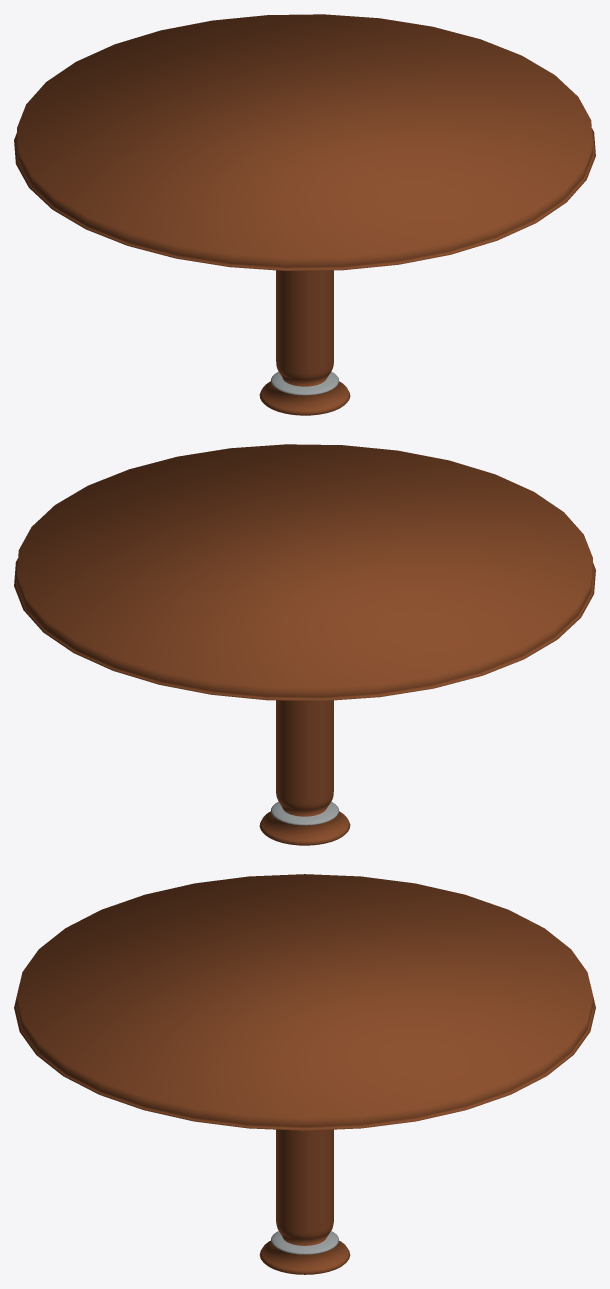
Rendered from CinemaTisch.fbx.
3 renders of one model, top to bottom at view 1: azimuth 30°, elevation 25°; view 2: azimuth 150°, elevation 25°; view 3: azimuth 270°, elevation 25°, orthographic.
Visible parts, largest first — view 1: Tisch; view 2: Tisch; view 3: Tisch.
Boxes of the visible parts, box(x1,y1,x2,y2) form: Tisch: box(14, 14, 595, 415); Tisch: box(14, 444, 595, 845); Tisch: box(14, 874, 595, 1274).
Size of the model in its own units: 424 by 209 by 424.
